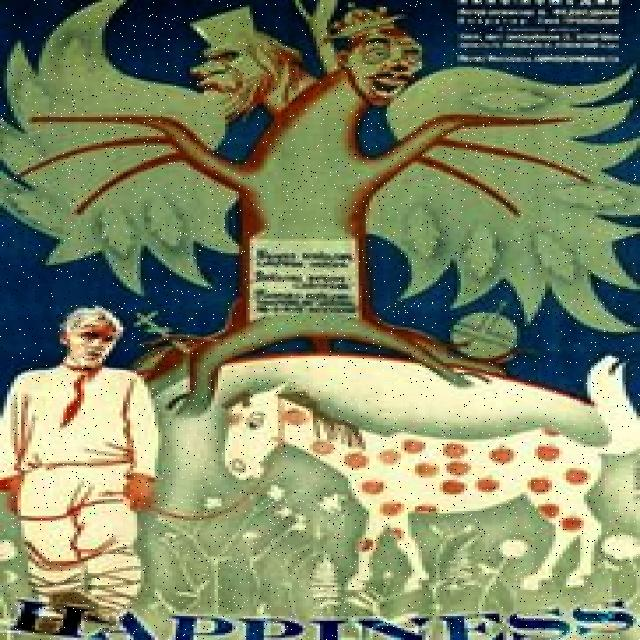movie-judul: (8, 592, 639, 640)
picture: (0, 0, 640, 584)
